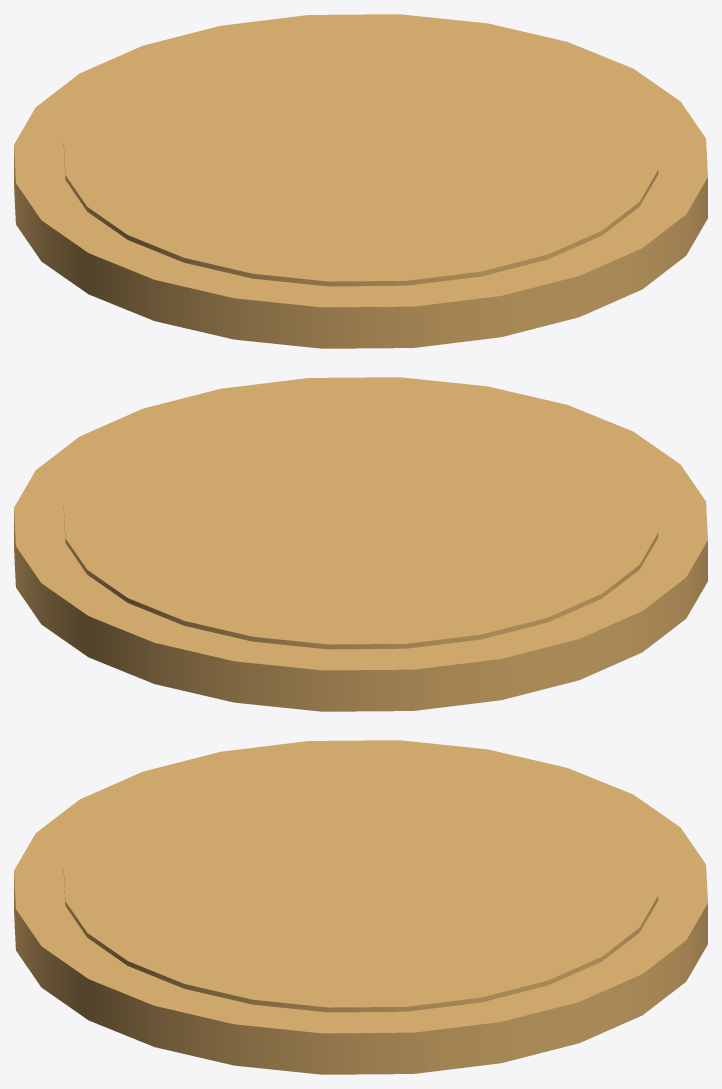
Rendered from 4 plate.fbx.
3 renders of one model, top to bottom at view 1: azimuth 30°, elevation 25°; view 2: azimuth 150°, elevation 25°; view 3: azimuth 270°, elevation 25°, orthographic.
Parts seen in each view (by area): view 1: 4 plate; view 2: 4 plate; view 3: 4 plate.
Part boxes in pixels (left/top/right/bottom): 4 plate: left=14, top=14, right=707, bottom=348; 4 plate: left=14, top=377, right=707, bottom=711; 4 plate: left=14, top=740, right=707, bottom=1074.
Bounding box in the file's own units: 15.72 × 1.16 × 15.72.
